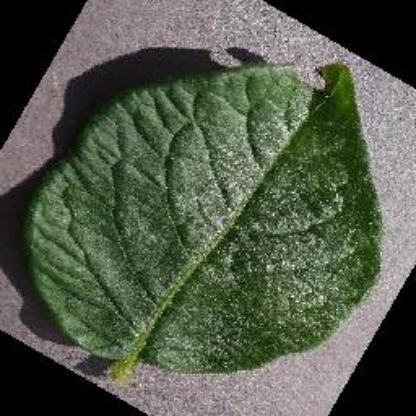Healthy-plant: (36, 18, 386, 406)
